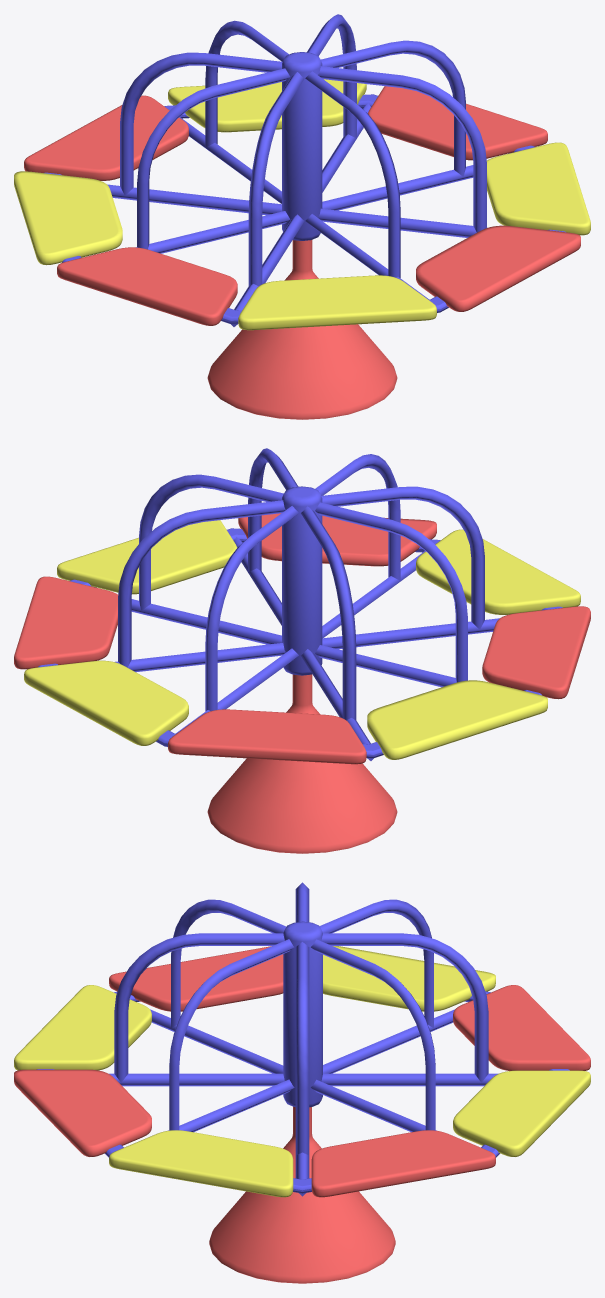
The model's file is SM_GiraGira.fbx.
3 renders of one model, top to bottom at view 1: azimuth 30°, elevation 25°; view 2: azimuth 150°, elevation 25°; view 3: azimuth 270°, elevation 25°, orthographic.
Visible parts, largest first — view 1: SM_GiraGira_topo, SM_GiraGira; view 2: SM_GiraGira_topo, SM_GiraGira; view 3: SM_GiraGira_topo, SM_GiraGira.
Boxes of the visible parts, <box> form: SM_GiraGira_topo: <box>14,14,590,330</box>; SM_GiraGira: <box>207,240,397,419</box>; SM_GiraGira_topo: <box>14,448,590,764</box>; SM_GiraGira: <box>207,674,397,853</box>; SM_GiraGira_topo: <box>14,882,590,1197</box>; SM_GiraGira: <box>209,1106,395,1283</box>.
Size of the model in its own units: 182 by 110 by 182.
